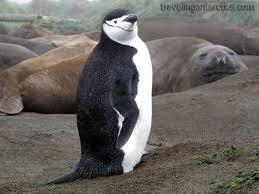chinstrap: (56, 13, 169, 180)
